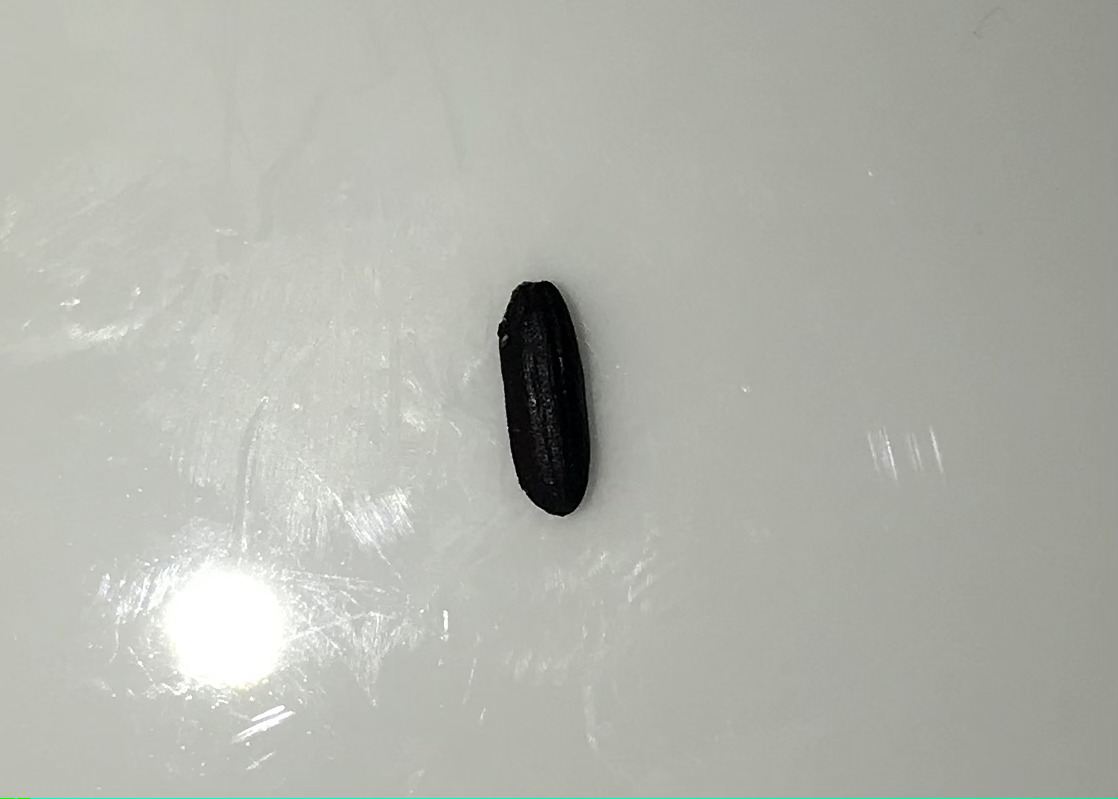Gao lut: (487, 272, 601, 521)
